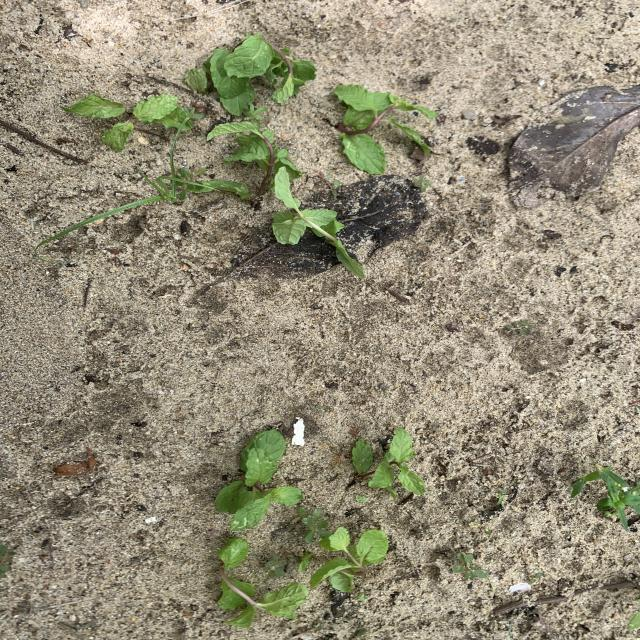crop: (186, 34, 315, 115), (334, 85, 435, 173), (216, 430, 302, 530), (216, 538, 307, 627), (211, 120, 300, 207), (64, 94, 192, 150), (272, 203, 363, 275), (308, 527, 387, 591), (352, 428, 423, 498), (572, 468, 639, 528)
weed: (35, 150, 216, 255), (298, 508, 328, 542), (452, 552, 488, 579), (264, 552, 287, 575), (0, 545, 13, 577), (504, 320, 531, 335), (323, 173, 339, 195), (412, 175, 431, 191), (496, 489, 507, 505), (356, 496, 367, 502), (358, 594, 365, 599)
